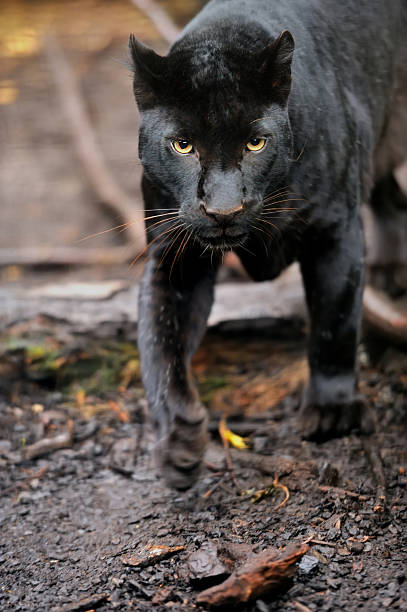panther: (83, 12, 345, 291)
